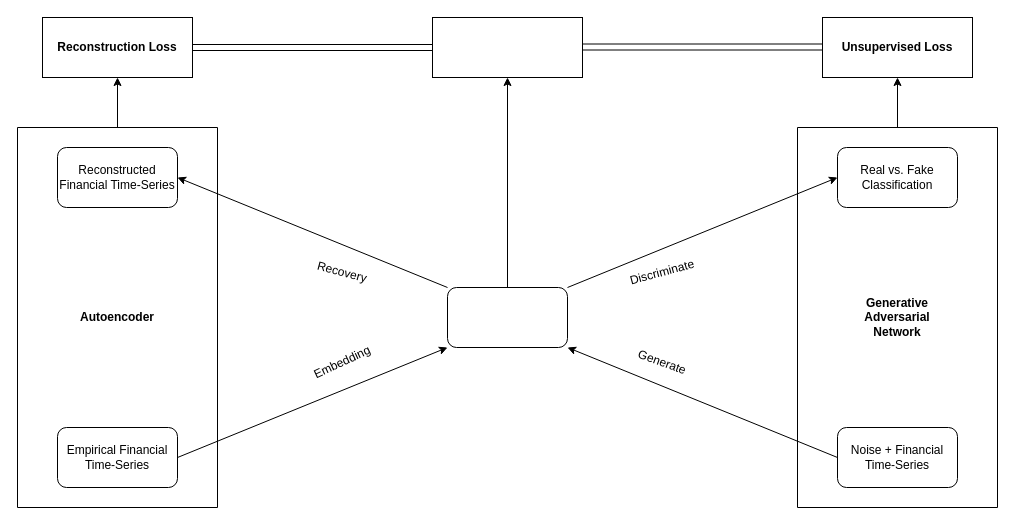
Some shapes in this 1015 by 525 pixel diagram are drawn without their labels. Here are the shapes that lost their labels. From the top down, the box of each, then its label:
(432, 16, 582, 78): Supervised Loss
(446, 286, 568, 348): Latent Space
